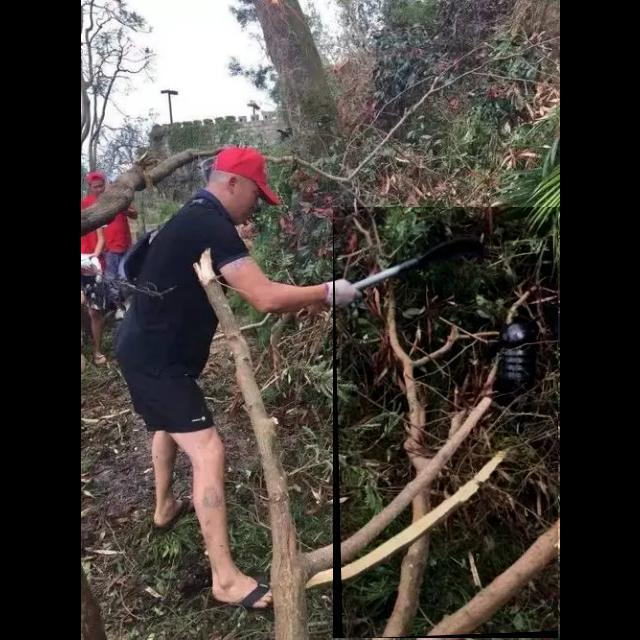fallen_tree: (333, 207, 559, 639)
